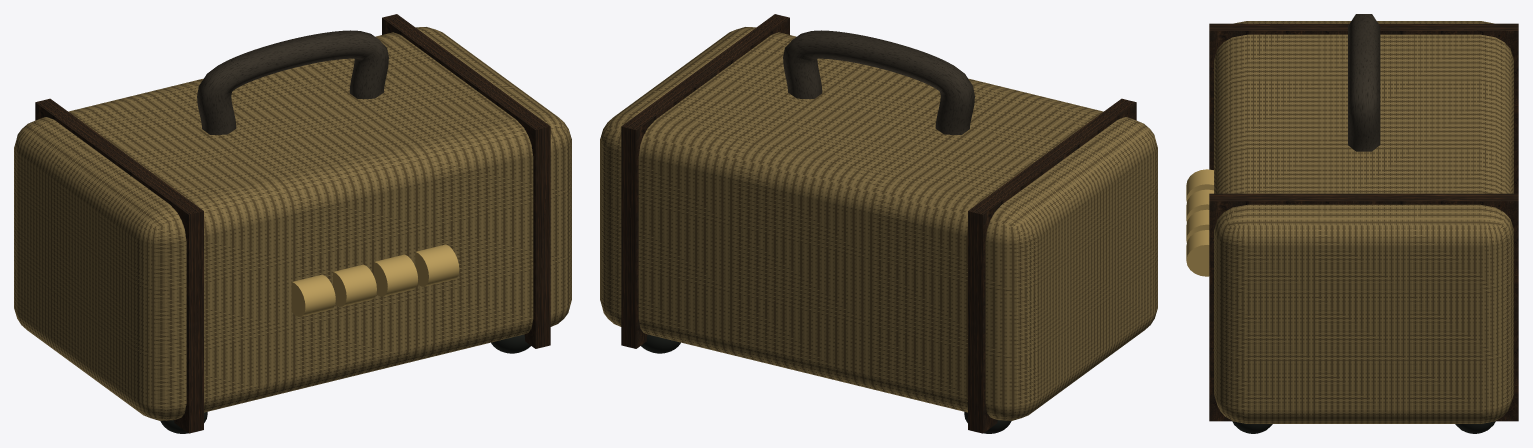
3 renders of one model, left to right at view 1: azimuth 30°, elevation 25°; view 2: azimuth 150°, elevation 25°; view 3: azimuth 270°, elevation 25°, orthographic.
Visible parts, largest first — view 1: a-luggage; view 2: a-luggage; view 3: a-luggage.
Boxes of the visible parts, left/top/right/bottom form: a-luggage: left=14, top=14, right=571, bottom=433; a-luggage: left=600, top=14, right=1157, bottom=433; a-luggage: left=1186, top=14, right=1518, bottom=433.
Size of the model in its own units: 0.53 by 0.36 by 0.35.
5 materials, 3 textured.
